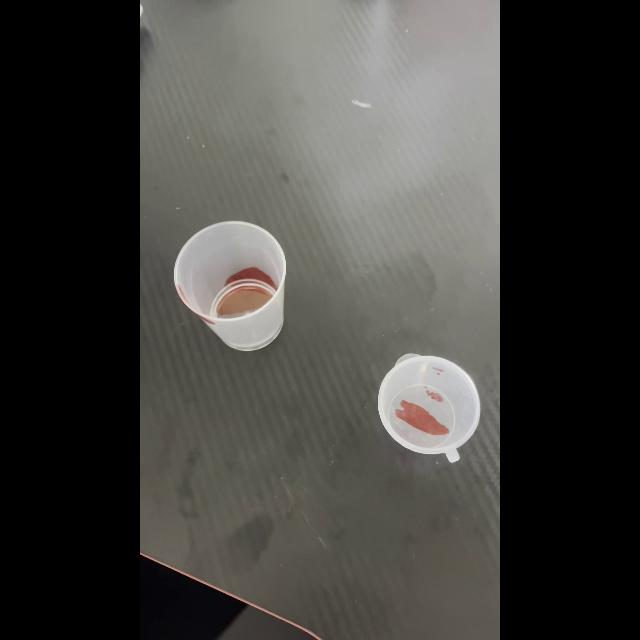dirty: (173, 220, 295, 356), (378, 350, 470, 464)
